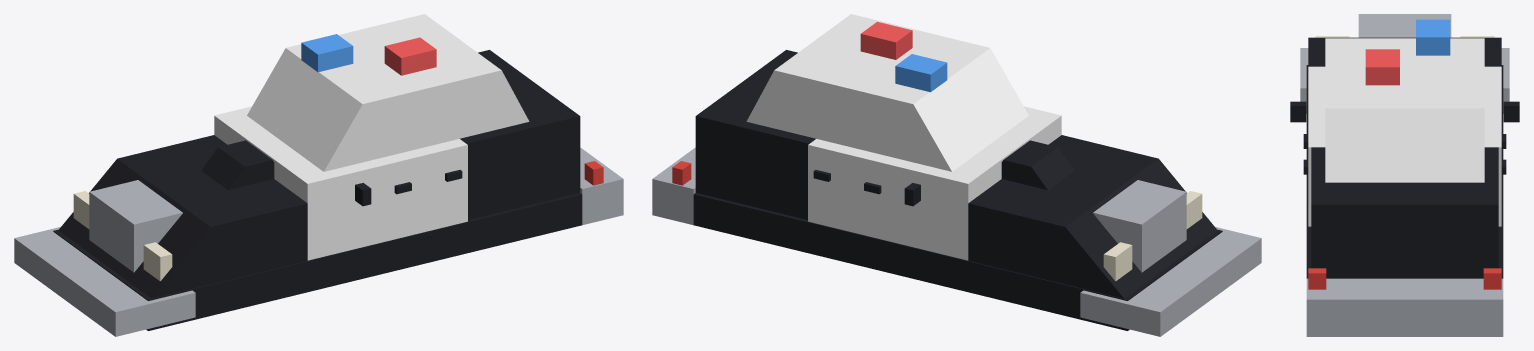
The model's file is Policia.obj.
The picture shows the model from 3 angles, left to right: view 1: azimuth 30°, elevation 25°; view 2: azimuth 150°, elevation 25°; view 3: azimuth 270°, elevation 25°; orthographic projection. The views are drawn at different scales.
Parts seen in each view (by area): view 1: roof, hood, mid_body, chassis, rear_deck, front_bumper, grill_frame, hood_scoop, rear_bumper, lightbar_red, lightbar_blue, headlight_R (+1 smaller); view 2: roof, hood, mid_body, chassis, rear_deck, front_bumper, grill_frame, hood_scoop, rear_bumper, lightbar_blue, lightbar_red, headlight_L (+1 smaller); view 3: roof, rear_deck, rear_bumper, mid_body, grill_frame, chassis, hood, lightbar_blue, lightbar_red, front_bumper, taillight_L, taillight_R (+2 smaller).
Part boxes in pixels (bbox=[...]): roof: bbox=[247, 14, 529, 171]; hood: bbox=[58, 135, 307, 298]; mid_body: bbox=[214, 106, 467, 260]; chassis: bbox=[53, 193, 582, 330]; rear_deck: bbox=[460, 50, 580, 219]; front_bumper: bbox=[14, 227, 195, 336]; grill_frame: bbox=[89, 180, 182, 272]; hood_scoop: bbox=[201, 140, 274, 189]; rear_bumper: bbox=[580, 147, 623, 225]; lightbar_red: bbox=[384, 37, 436, 75]; lightbar_blue: bbox=[301, 34, 353, 72]; headlight_R: bbox=[143, 242, 172, 281]; roof: bbox=[746, 14, 1028, 171]; hood: bbox=[968, 135, 1217, 298]; mid_body: bbox=[808, 106, 1061, 260]; chassis: bbox=[693, 193, 1222, 330]; rear_deck: bbox=[695, 50, 815, 219]; front_bumper: bbox=[1080, 227, 1261, 336]; grill_frame: bbox=[1093, 180, 1186, 272]; hood_scoop: bbox=[1001, 140, 1074, 189]; rear_bumper: bbox=[652, 147, 695, 225]; lightbar_blue: bbox=[895, 54, 947, 92]; lightbar_red: bbox=[860, 21, 912, 59]; headlight_L: bbox=[1103, 242, 1132, 281]; roof: bbox=[1325, 38, 1484, 182]; rear_deck: bbox=[1311, 147, 1498, 278]; rear_bumper: bbox=[1306, 278, 1503, 336]; mid_body: bbox=[1308, 66, 1501, 226]; grill_frame: bbox=[1358, 14, 1451, 37]; chassis: bbox=[1306, 65, 1503, 278]; hood: bbox=[1308, 37, 1501, 66]; lightbar_blue: bbox=[1416, 19, 1450, 55]; lightbar_red: bbox=[1365, 49, 1399, 85]; front_bumper: bbox=[1300, 48, 1509, 113]; taillight_L: bbox=[1483, 268, 1501, 289]; taillight_R: bbox=[1308, 268, 1326, 289].
Bounding box in the file's own units: 6.07 × 2.08 × 2.28.
